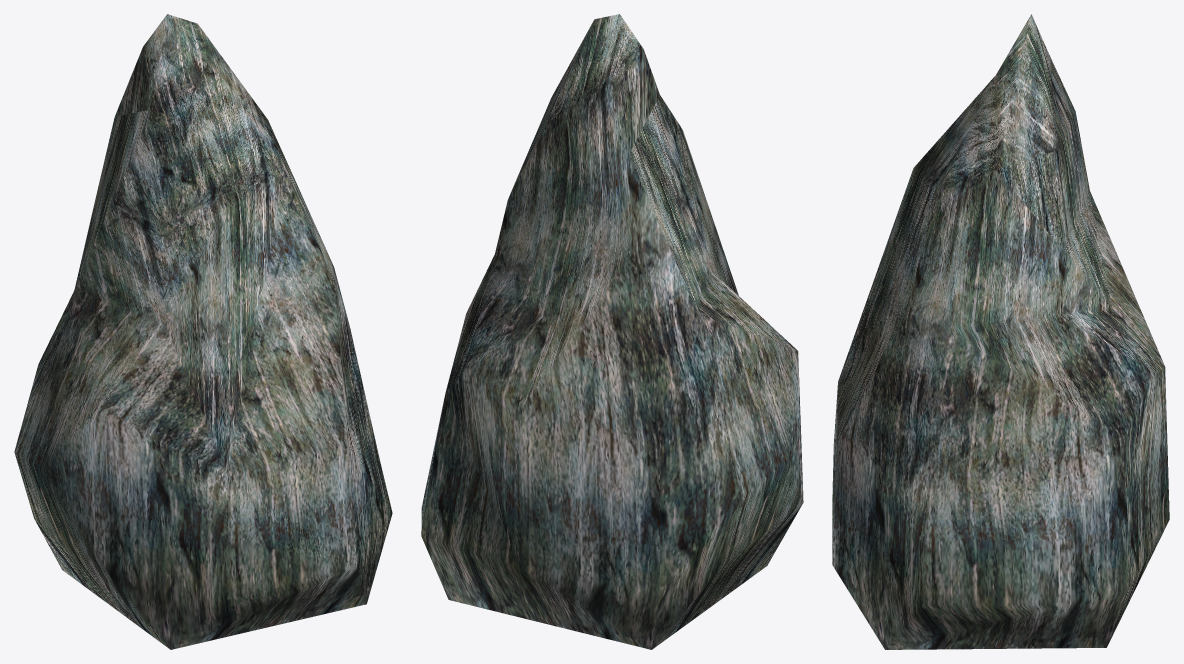
The model's file is rock_dath_desertcanyon_md_l1.fbx.
3 views of the same model, side by side, from view 1: azimuth 30°, elevation 25°; view 2: azimuth 150°, elevation 25°; view 3: azimuth 270°, elevation 25° (orthographic). The views are drawn at different scales.
Parts seen in each view (by area): view 1: mesh_node; view 2: mesh_node; view 3: mesh_node.
Part boxes in pixels (x1=…): mesh_node: x1=14, y1=14, x2=392, y2=649; mesh_node: x1=421, y1=14, x2=803, y2=649; mesh_node: x1=832, y1=14, x2=1169, y2=649.
Size of the model in its own units: 4.7 by 8.68 by 4.31.
